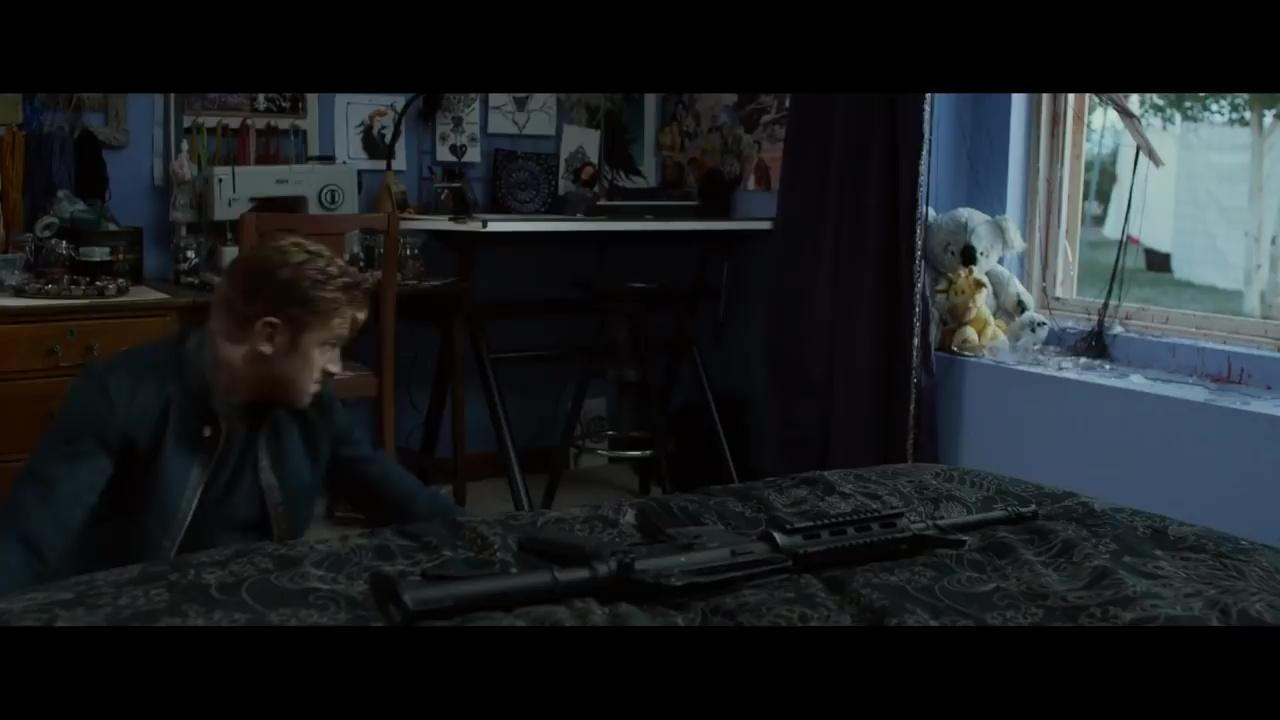Gun: (360, 486, 1052, 626)
